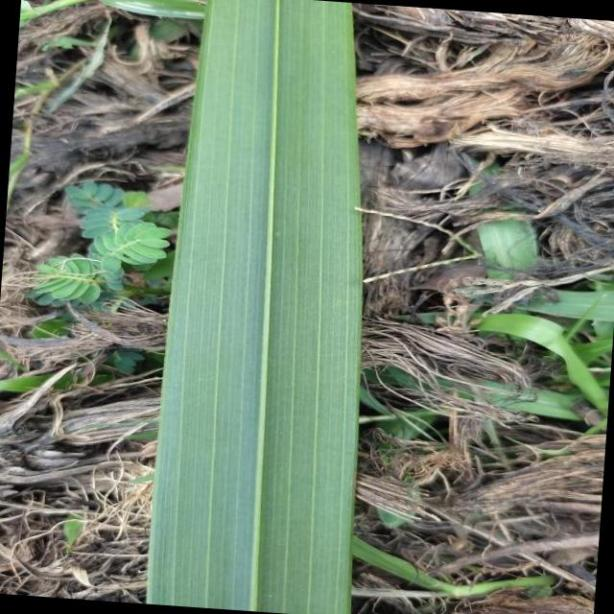Healthy: (149, 0, 364, 608)
